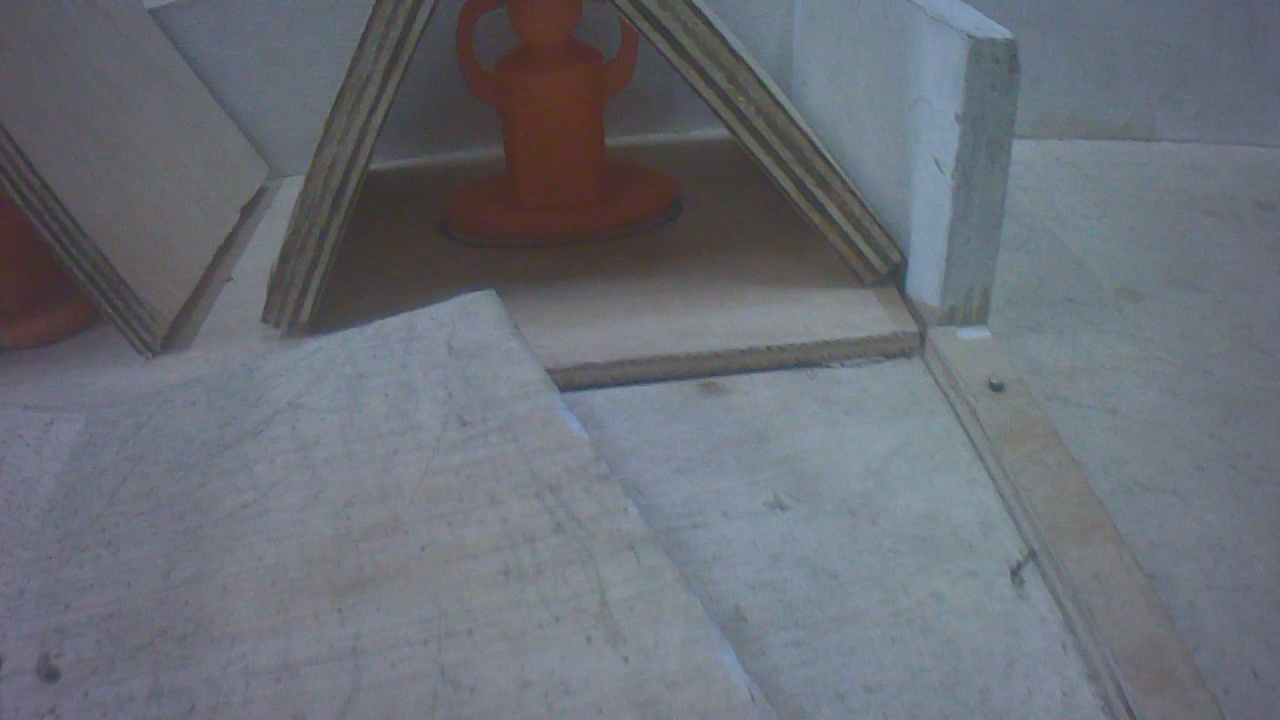real: (434, 1, 682, 247)
